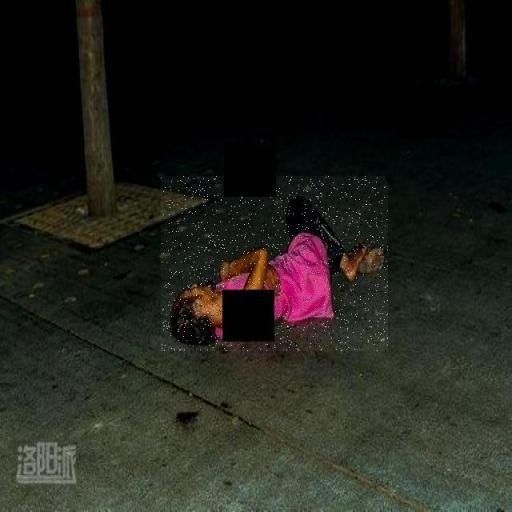Fall: (161, 176, 388, 351)
